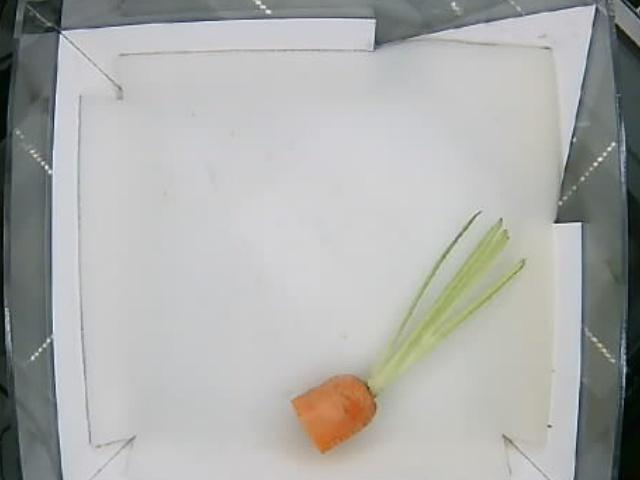Carrot: (291, 348, 417, 453)
